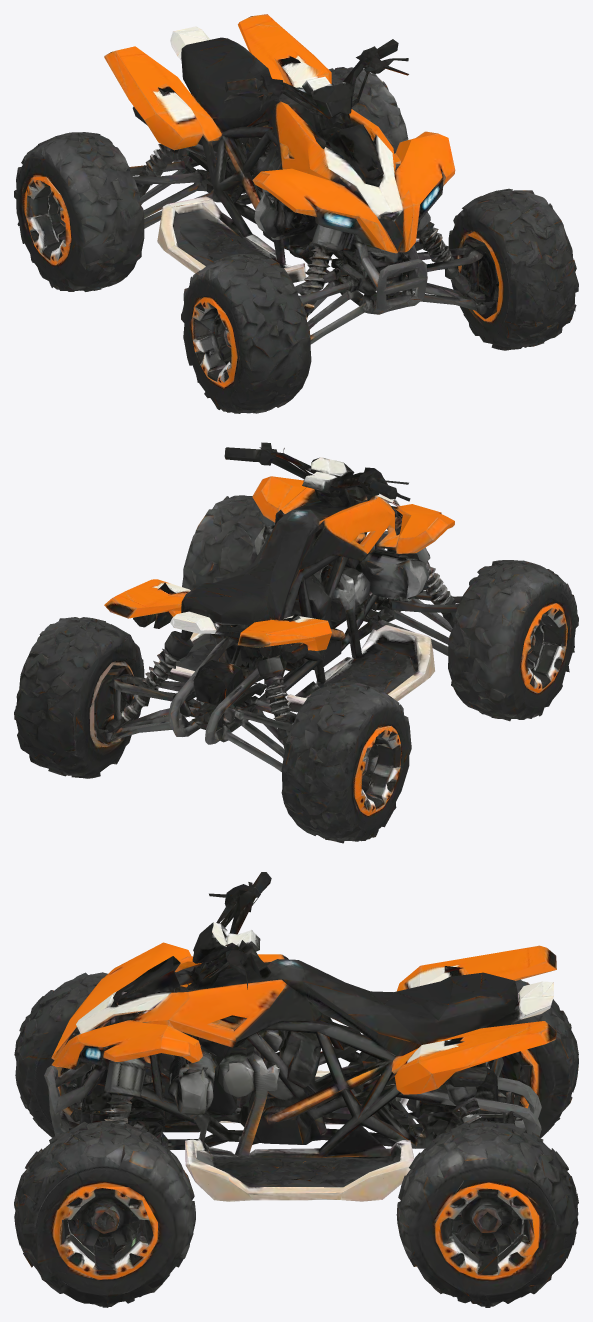
Rendered from atv.glb.
3 renders of one model, top to bottom at view 1: azimuth 30°, elevation 25°; view 2: azimuth 150°, elevation 25°; view 3: azimuth 270°, elevation 25°, orthographic. The views are drawn at different scales.
Visible parts, largest first — view 1: ChassisGeometry, Wheel_Rear_RightGeometry, Wheel_Front_RightGeometry, Wheel_Front_LeftGeometry, Wheel_Rear_LeftGeometry; view 2: ChassisGeometry, Wheel_Rear_RightGeometry, Wheel_Front_RightGeometry, Wheel_Rear_LeftGeometry, Wheel_Front_LeftGeometry; view 3: ChassisGeometry, Wheel_Rear_LeftGeometry, Wheel_Front_LeftGeometry, Wheel_Front_RightGeometry, Wheel_Rear_RightGeometry.
Boxes of the visible parts, x1,y1,x2,y2 form: ChassisGeometry: (104,14,487,344); Wheel_Rear_RightGeometry: (14,132,160,291); Wheel_Front_RightGeometry: (181,254,311,413); Wheel_Front_LeftGeometry: (448,188,578,350); Wheel_Rear_LeftGeometry: (329,67,408,153); ChassisGeometry: (104,442,462,771); Wheel_Rear_RightGeometry: (281,682,411,843); Wheel_Front_RightGeometry: (432,560,578,721); Wheel_Rear_LeftGeometry: (14,617,144,778); Wheel_Front_LeftGeometry: (182,495,274,590); ChassisGeometry: (44,872,556,1201); Wheel_Rear_LeftGeometry: (383,1121,578,1307); Wheel_Front_LeftGeometry: (14,1121,209,1307); Wheel_Front_RightGeometry: (14,972,174,1137); Wheel_Rear_RightGeometry: (406,979,578,1137).
Bounding box in the file's own units: 2.3 × 1.76 × 2.9.
Materials: 1 (1 with a texture image).
